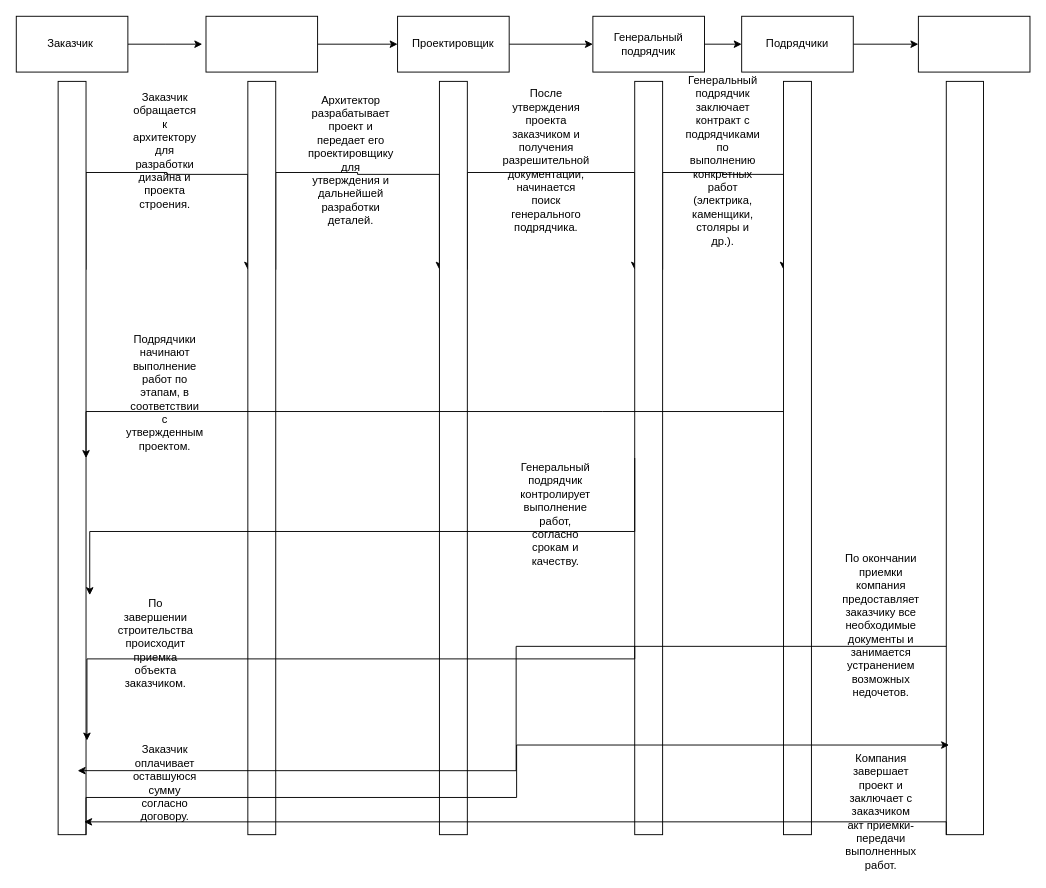
Some shapes in this 1046 by 888 pixel diagram are drawn without their labels. Each missing label, with the centre of its shape:
"Архитектор" belongs at point 261,43.
"Компания" belongs at point 973,43.
